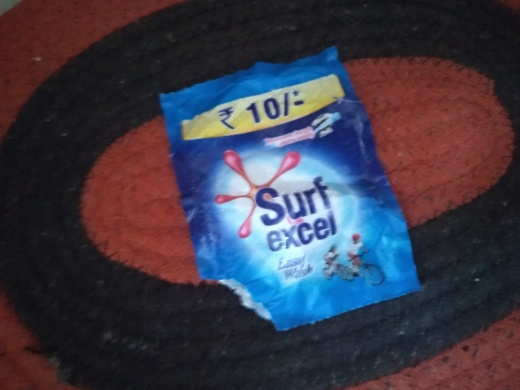surf: (143, 59, 428, 326)
